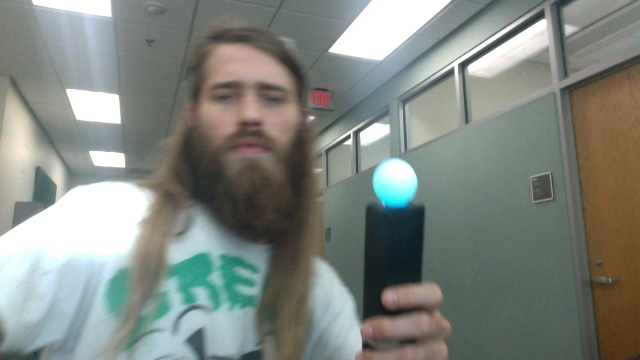wand: (374, 160, 418, 208)
